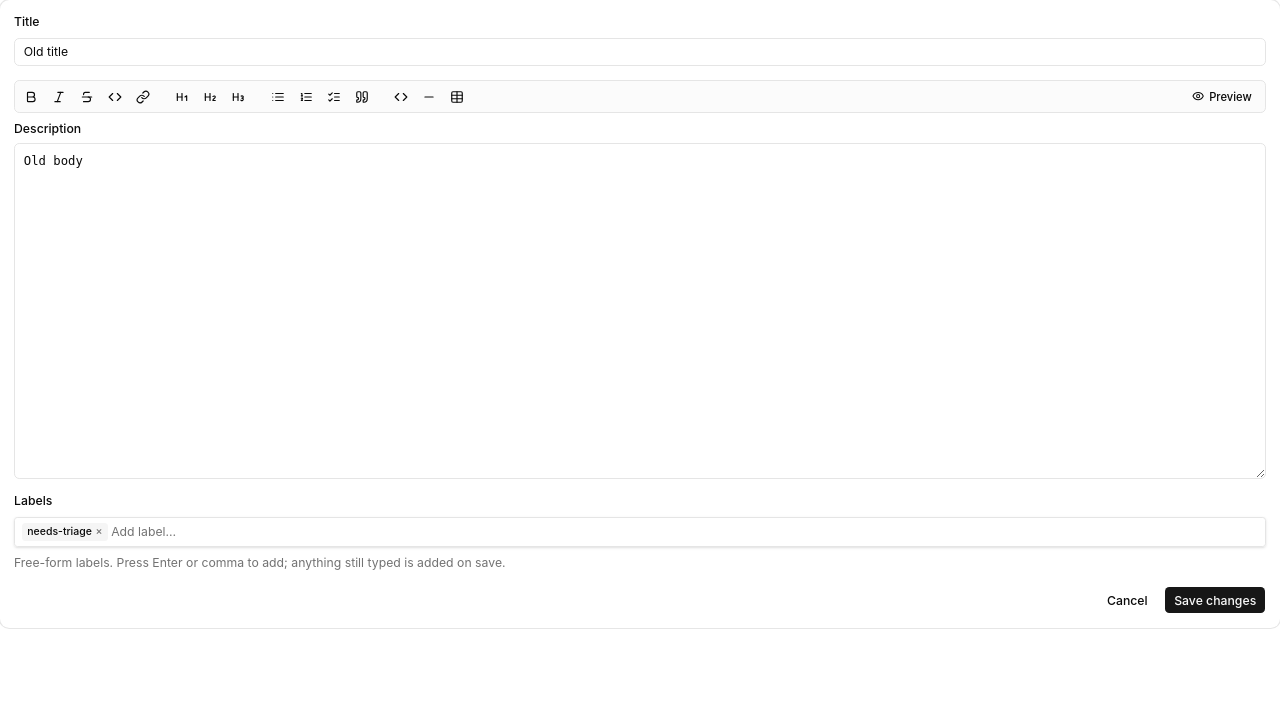
Test: IssueEditForm › shows an error alert when saving fails
Click the button "Save changes": (1215, 600) [1164,586,1266,614]
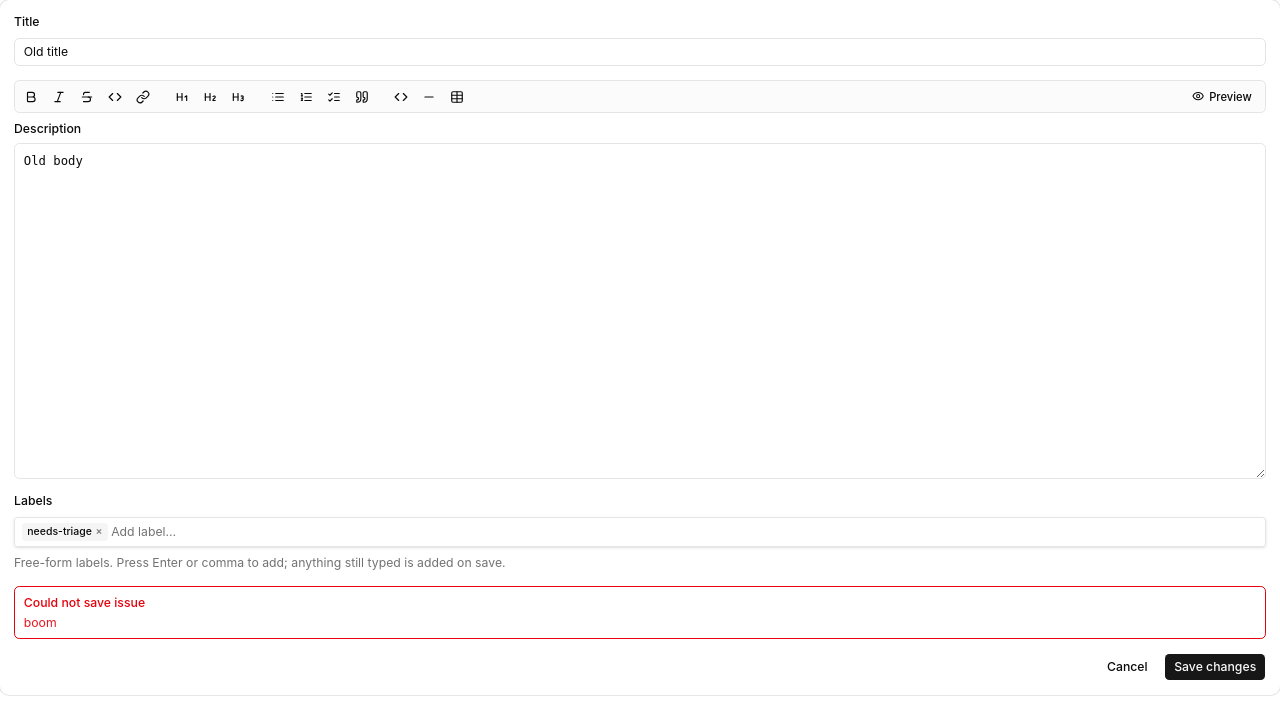
Expected: the button "Save changes" is enabled, [1164,653,1266,681]
Now the message "Could not save issue boom" is shown, box [14,586,1266,639]
